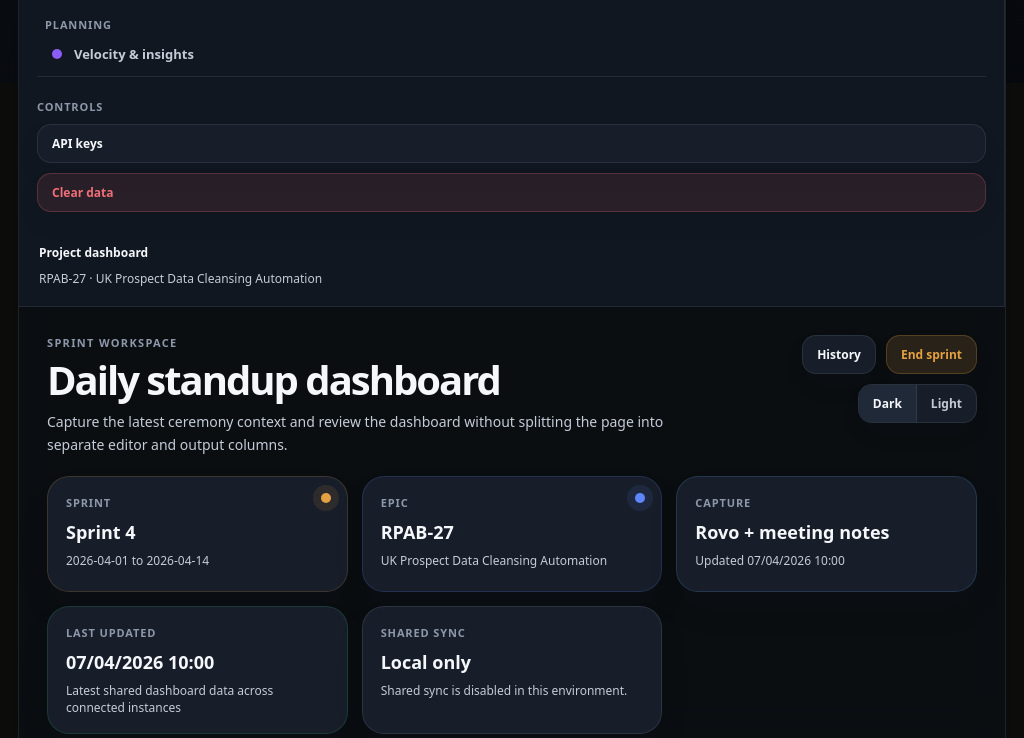
Test: archived sprint history stores meeting and velocity insights for later reference
(page scrolled)
Click the button "End sprint".
click(931, 354)  # box [886,335,977,374]
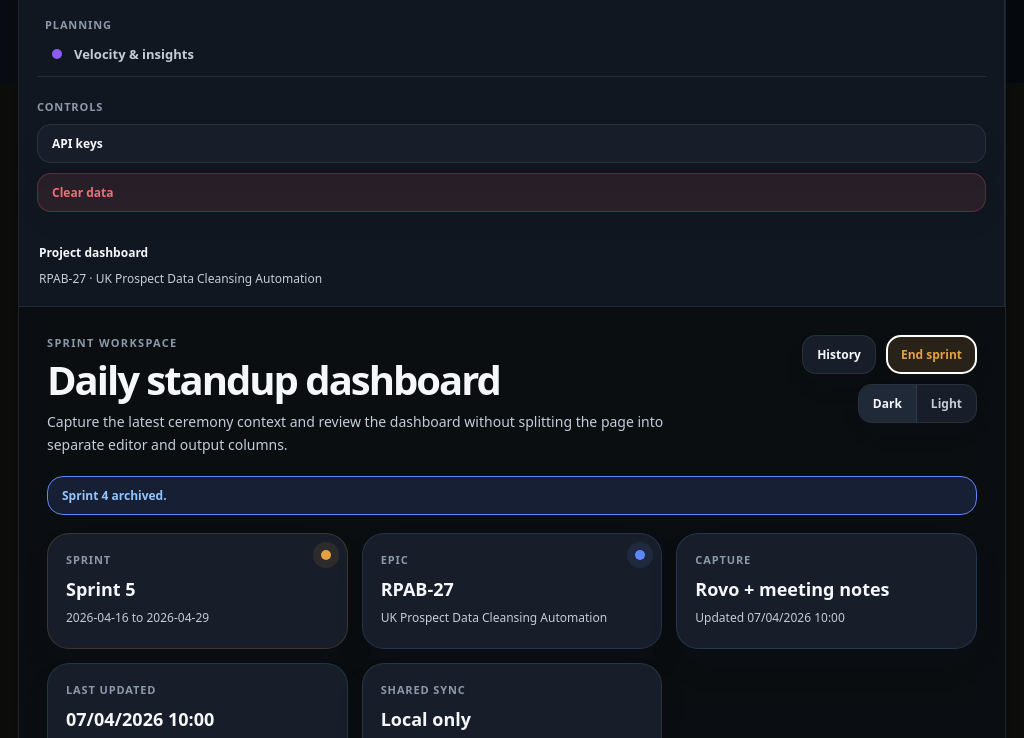
Click the button "History".
click(839, 354)  # box [802,335,876,374]
(page scrolled)
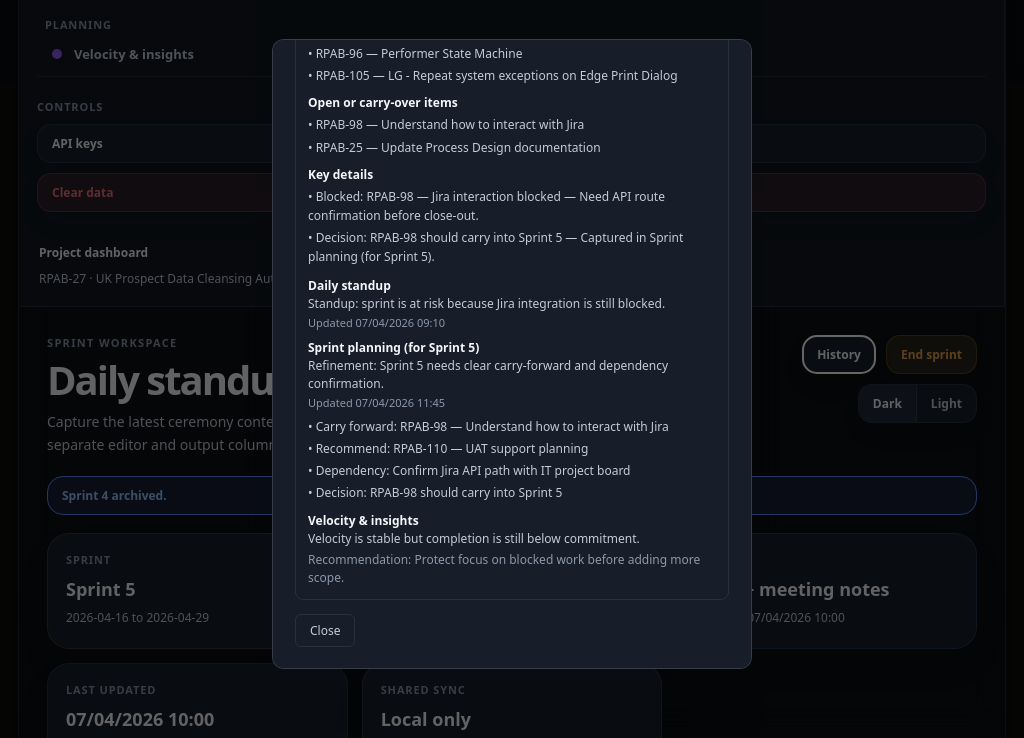
Now the text "• RPAB-96 — Performer State Machine" is shown, box [308,45,522,62]
Now the text "Carry forward: RPAB-98 — Understand how to interact with Jira" is shown, box [316,418,669,435]
Now the text "Decision: RPAB-98 should carry into Sprint 5" is shown, box [308,229,683,265]
